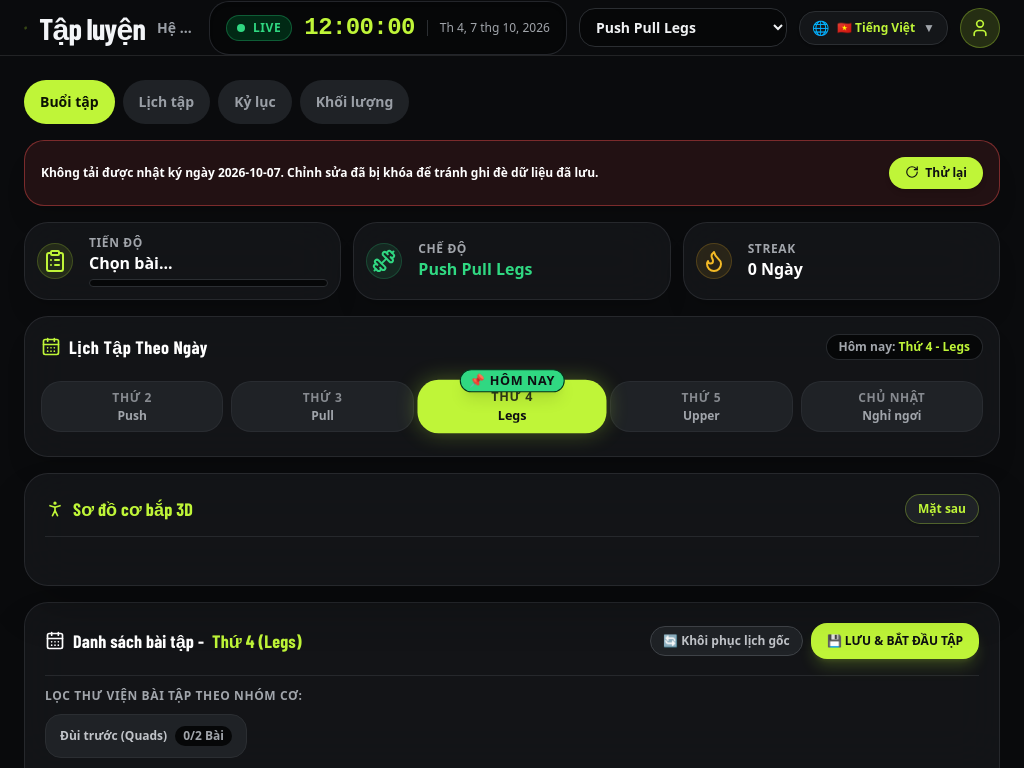
Test case: Workouts: loading problems › a day whose saved log cannot be read is LOCKED, never replaced by the template
Expected: the text "Không tải được nhật ký ngày 2026-10-07" is shown, [41,165,598,181]
Click the button "💾 LƯU & BẮT ĐẦU TẬP" at coordinates (895, 641), box [811,623,979,659]
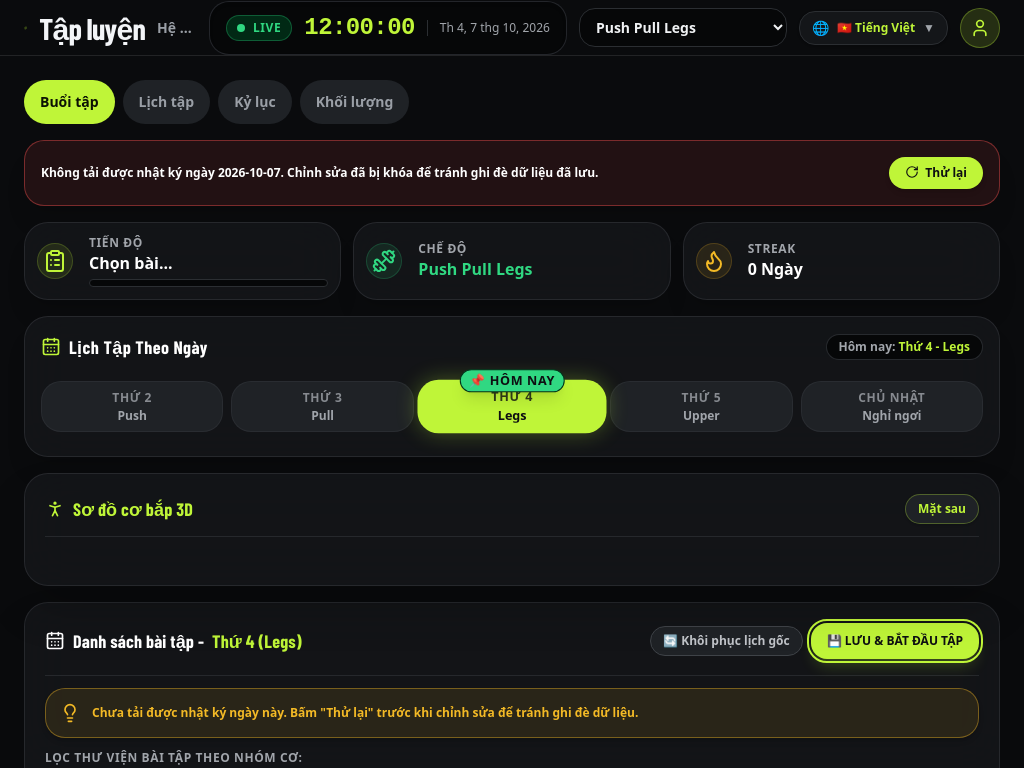
Now the text "Chưa tải được nhật ký ngày này" is shown, box [92,704,638,721]
